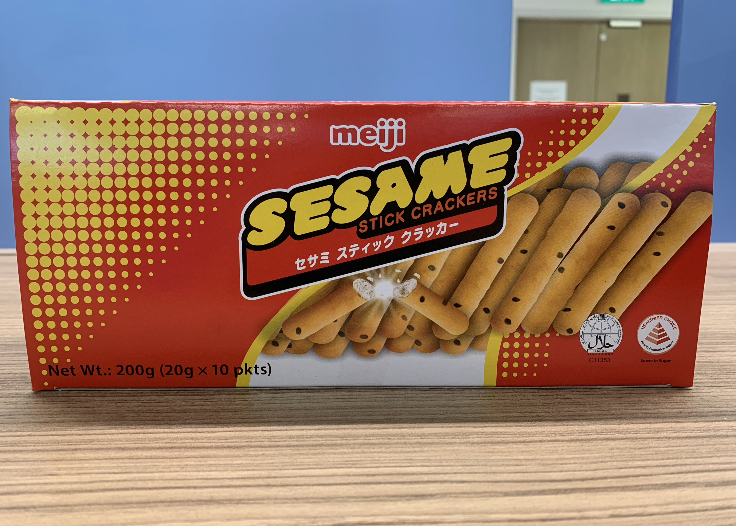crackers_200g-299g: (45, 117, 691, 378)
